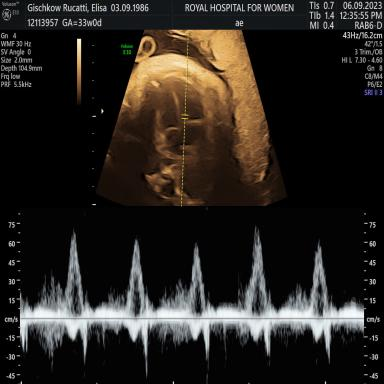Ultrasound-Waves: (25, 214, 364, 384)
